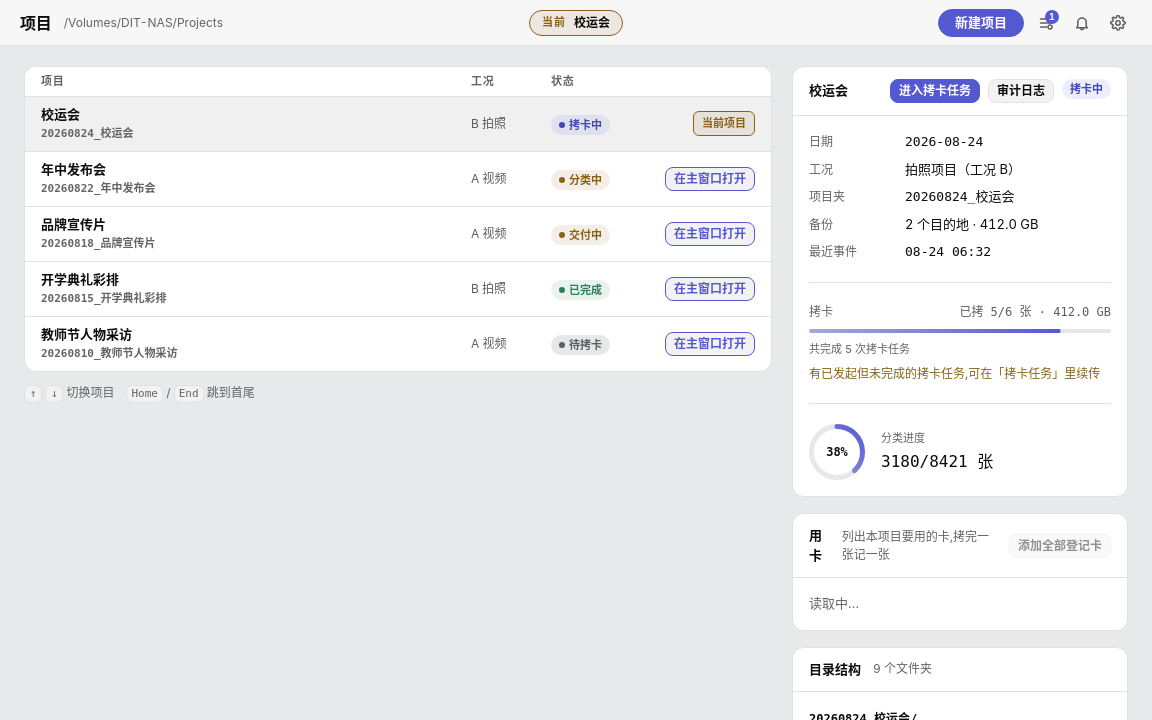
Test: E2E 锚点 › 审计日志抽屉锚点
Step 1. Click the button with test id "audit-open" → point(1021, 91), box [988, 79, 1054, 103]
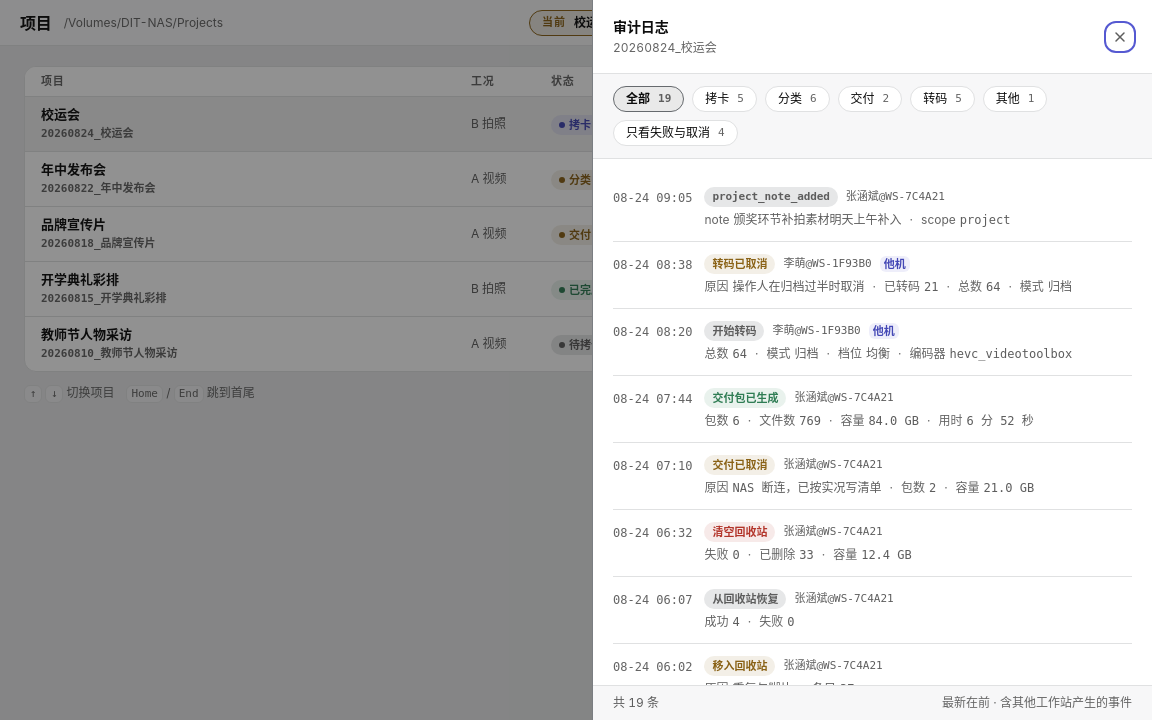
Expected: the dialog with test id "audit-log-drawer" is shown, [592, 0, 1151, 719]
Expected: the button with test id "audit-close" is shown, [1108, 24, 1132, 48]
Expected: the button with test id "audit-filter" showing "全部 19" is shown, [613, 86, 684, 112]
